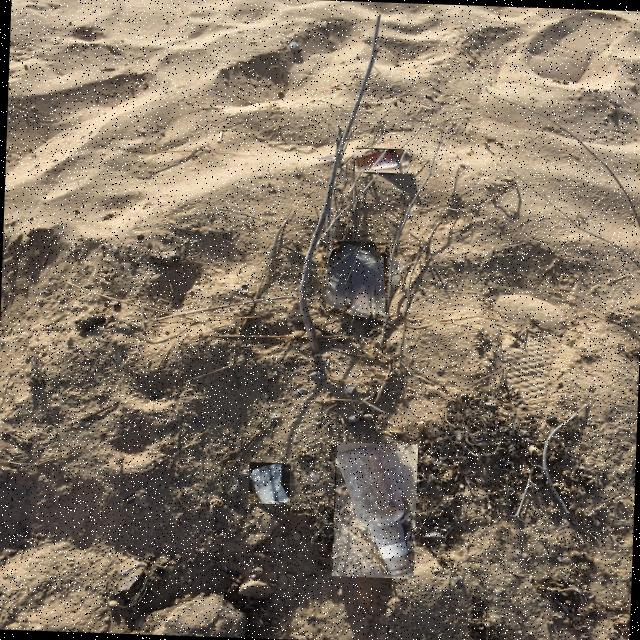Disposable plastic cup: (326, 241, 387, 318)
Glass bottle: (337, 443, 413, 578), (355, 150, 410, 172)
Unlabeled litter: (249, 463, 289, 503)
